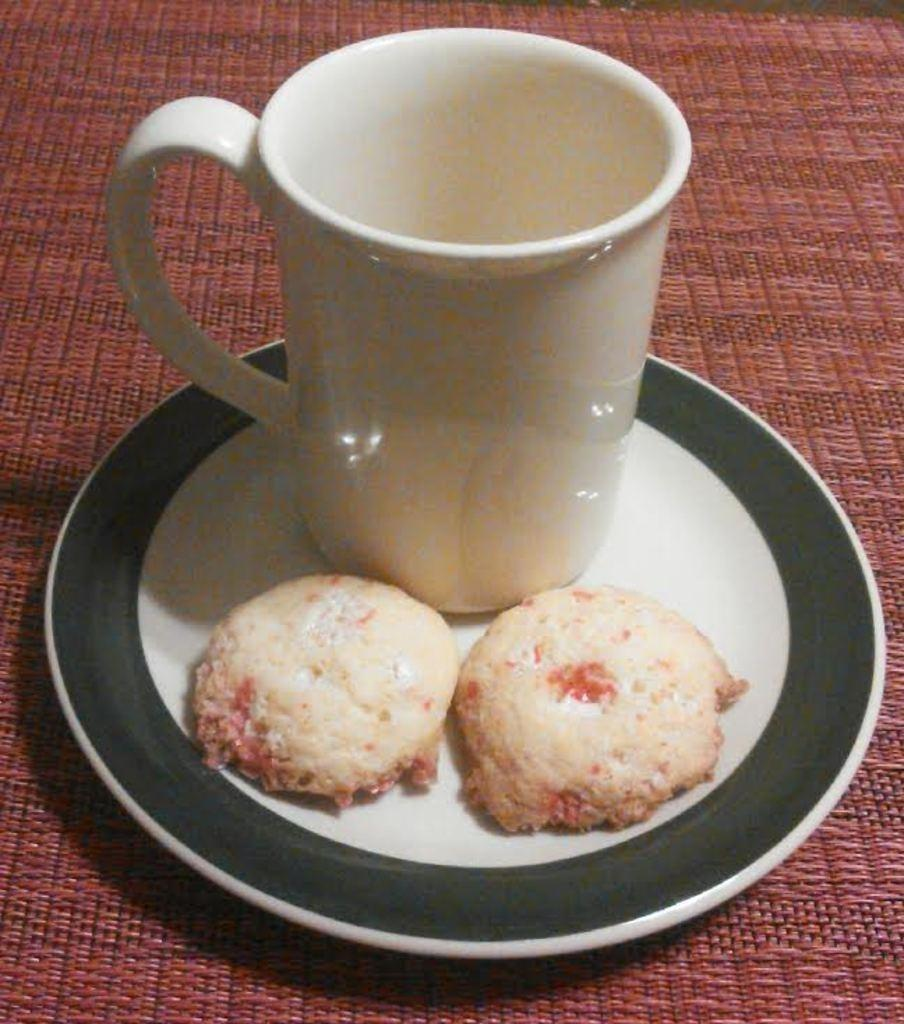cup-handle: (109, 27, 699, 617)
